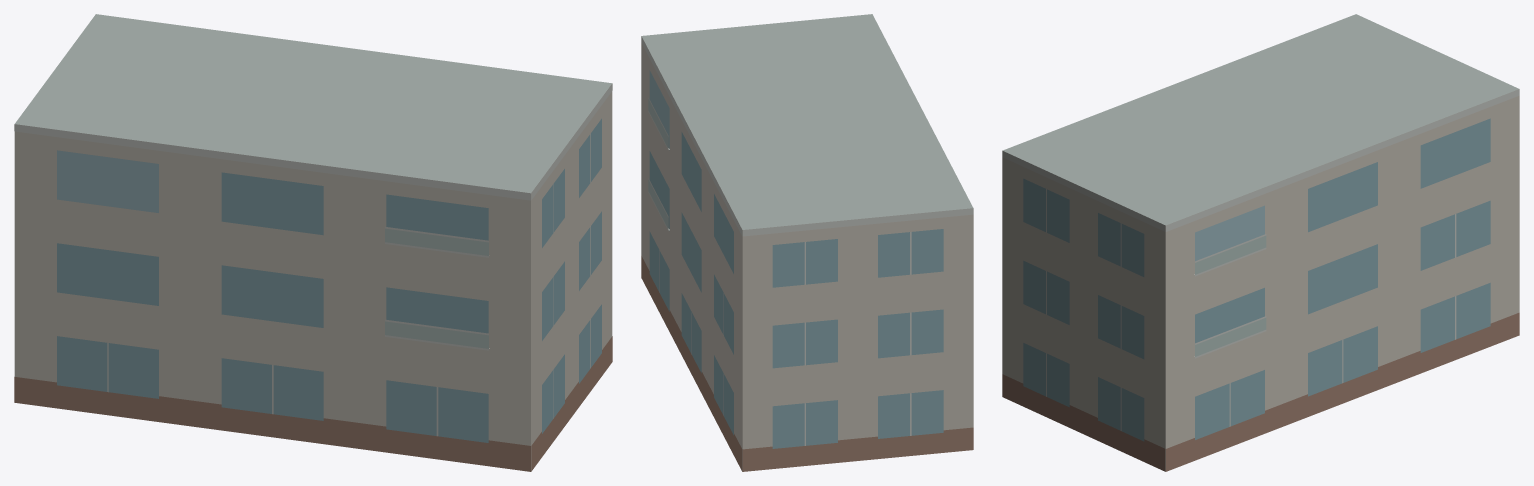
Rendered from survey-upis-32683662.glb.
3 views of the same model, side by side, from view 1: azimuth 30°, elevation 25°; view 2: azimuth 150°, elevation 25°; view 3: azimuth 270°, elevation 25° (orthographic). The views are drawn at different scales.
Visible parts, largest first — view 1: survey-upis-32683662.tmp; view 2: survey-upis-32683662.tmp; view 3: survey-upis-32683662.tmp.
Part boxes in pixels (x1,y1,x2,y2): survey-upis-32683662.tmp: [14, 14, 612, 471]; survey-upis-32683662.tmp: [641, 14, 973, 471]; survey-upis-32683662.tmp: [1002, 14, 1519, 471].
Size of the model in its own units: 16.86 by 9.15 by 17.42.
